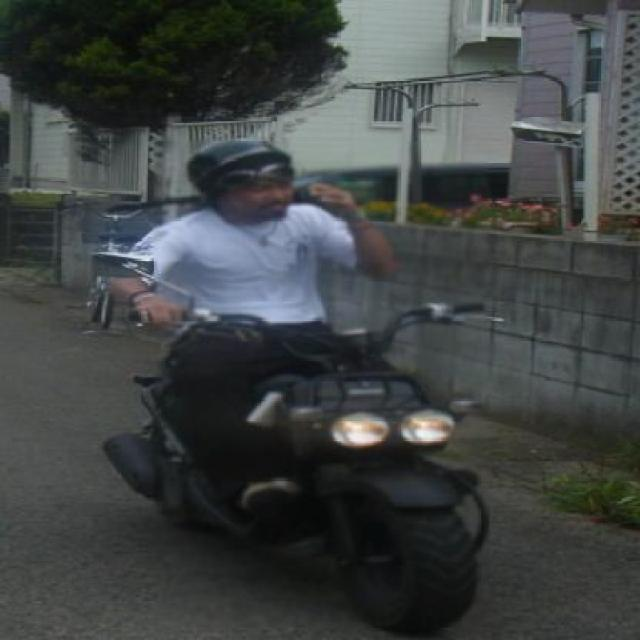helmet: (174, 133, 321, 227)
motorcycle: (74, 137, 504, 638)
